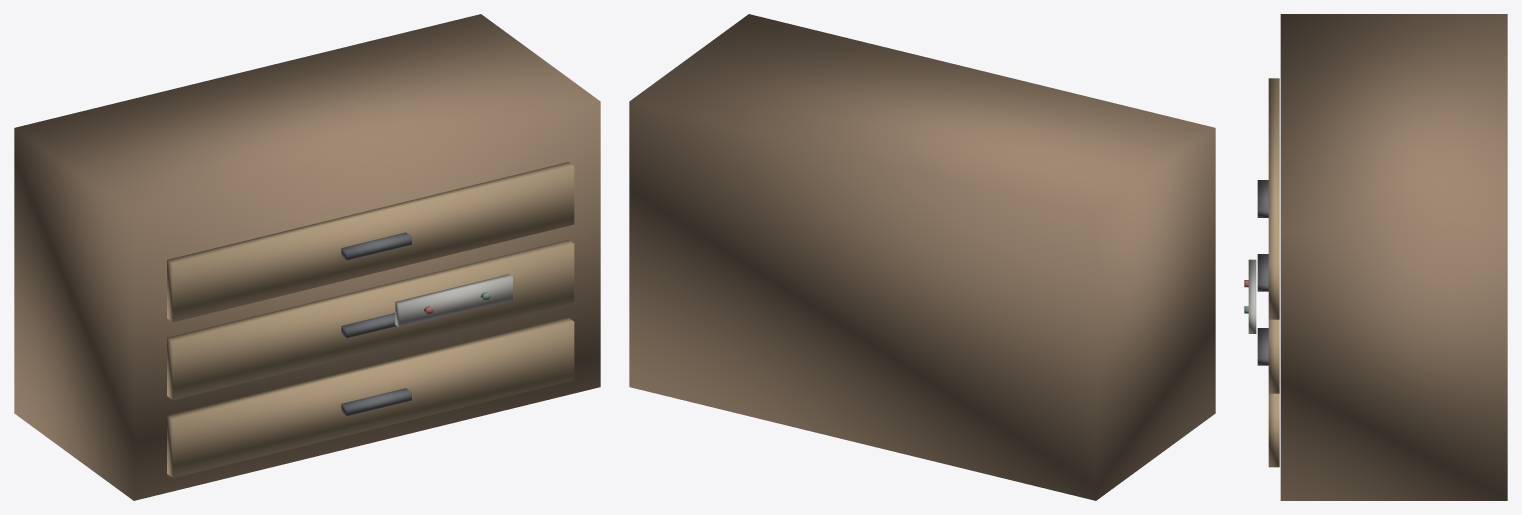
Rendered from dresser__squat.glb.
3 renders of one model, left to right at view 1: azimuth 30°, elevation 25°; view 2: azimuth 150°, elevation 25°; view 3: azimuth 270°, elevation 25°, orthographic. The views are drawn at different scales.
Visible parts, largest first — view 1: world; view 2: world; view 3: world.
Boxes of the visible parts, x1=… form: world: x1=14, y1=14, x2=600, y2=500; world: x1=629, y1=14, x2=1215, y2=500; world: x1=1244, y1=14, x2=1507, y2=500.
Size of the model in its own units: 1.26 by 0.7392 by 0.6518.
